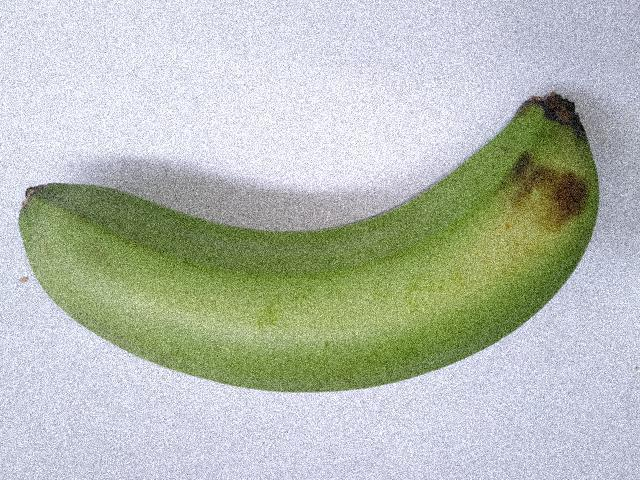freshunripe: (5, 74, 611, 403)
